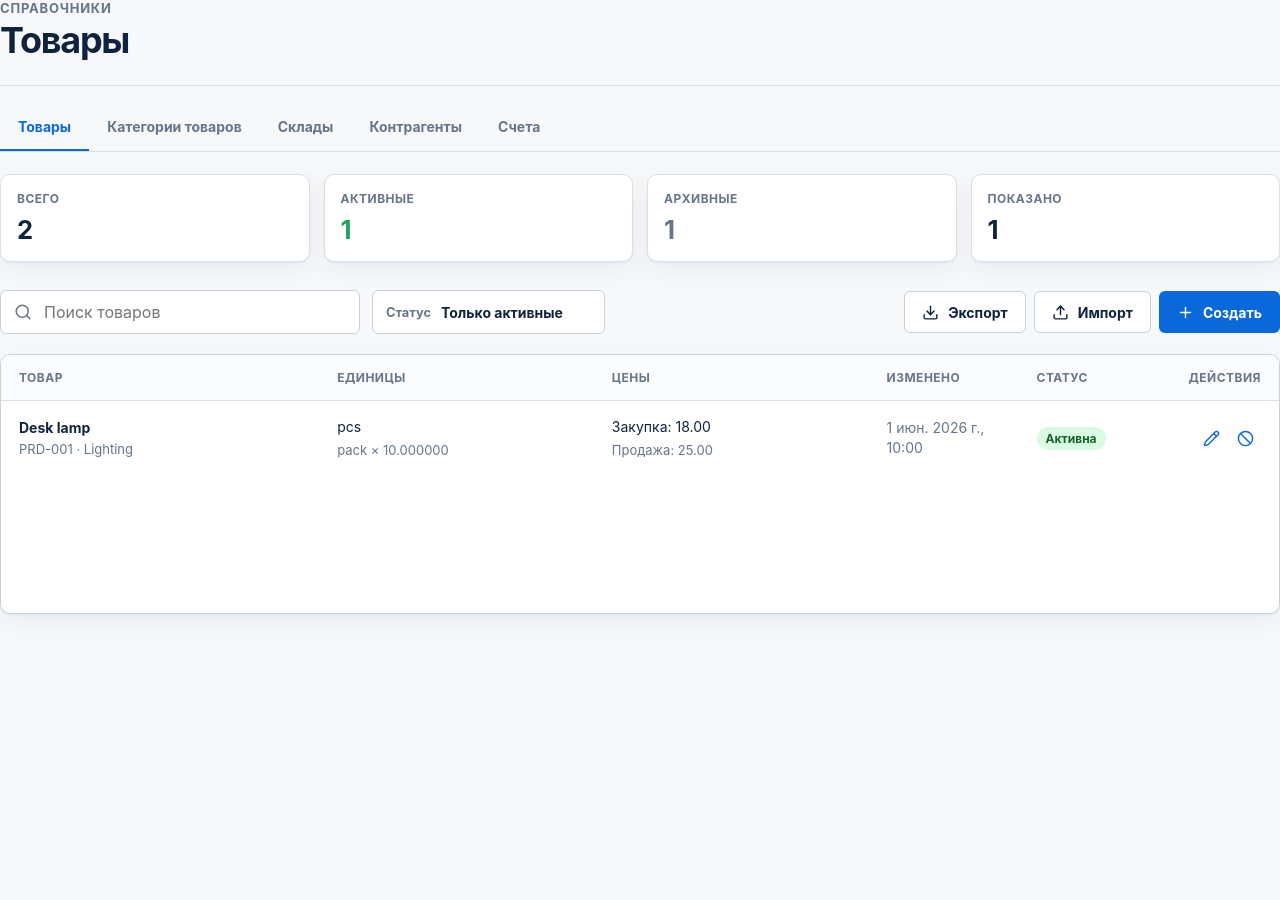
Test case: master data workspace › loads products and filters active and archived rows
This screenshot has width=1280, height=900.
Expected: the text "PRD-001 · Lighting" is shown, [19,441,133,457]
Expected: the text "PRD-ARCH" is not shown
Select "Только архивные" in the dropdown named "Фильтр активности" at coordinates (516, 312), box [441,304,591,321]
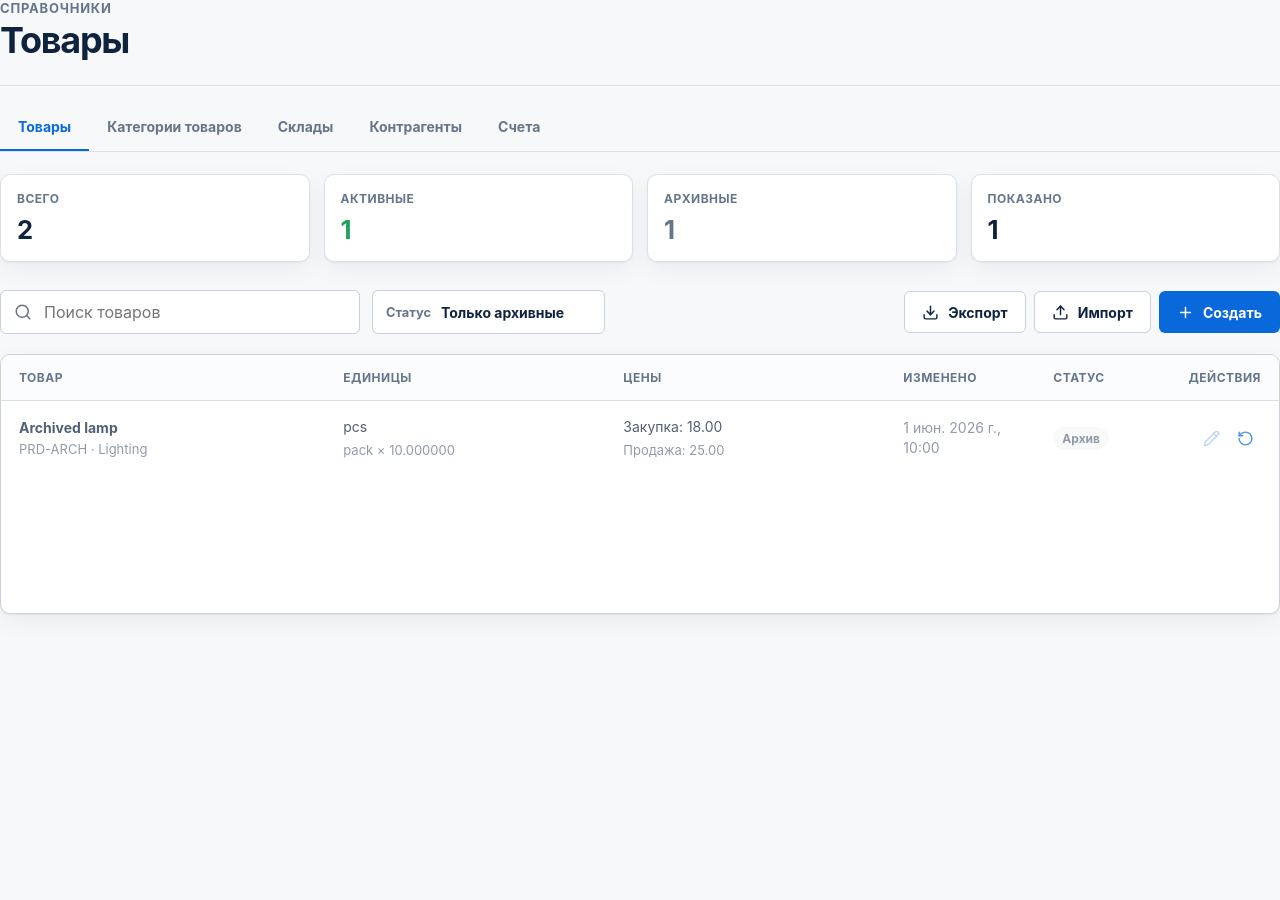
Expected: the text "PRD-ARCH · Lighting" is shown, [19,441,147,457]
Expected: the text "PRD-001" is gone
Click the button named "Восстановить Archived lamp" at coordinates (1245, 438), box [1229,422,1261,454]
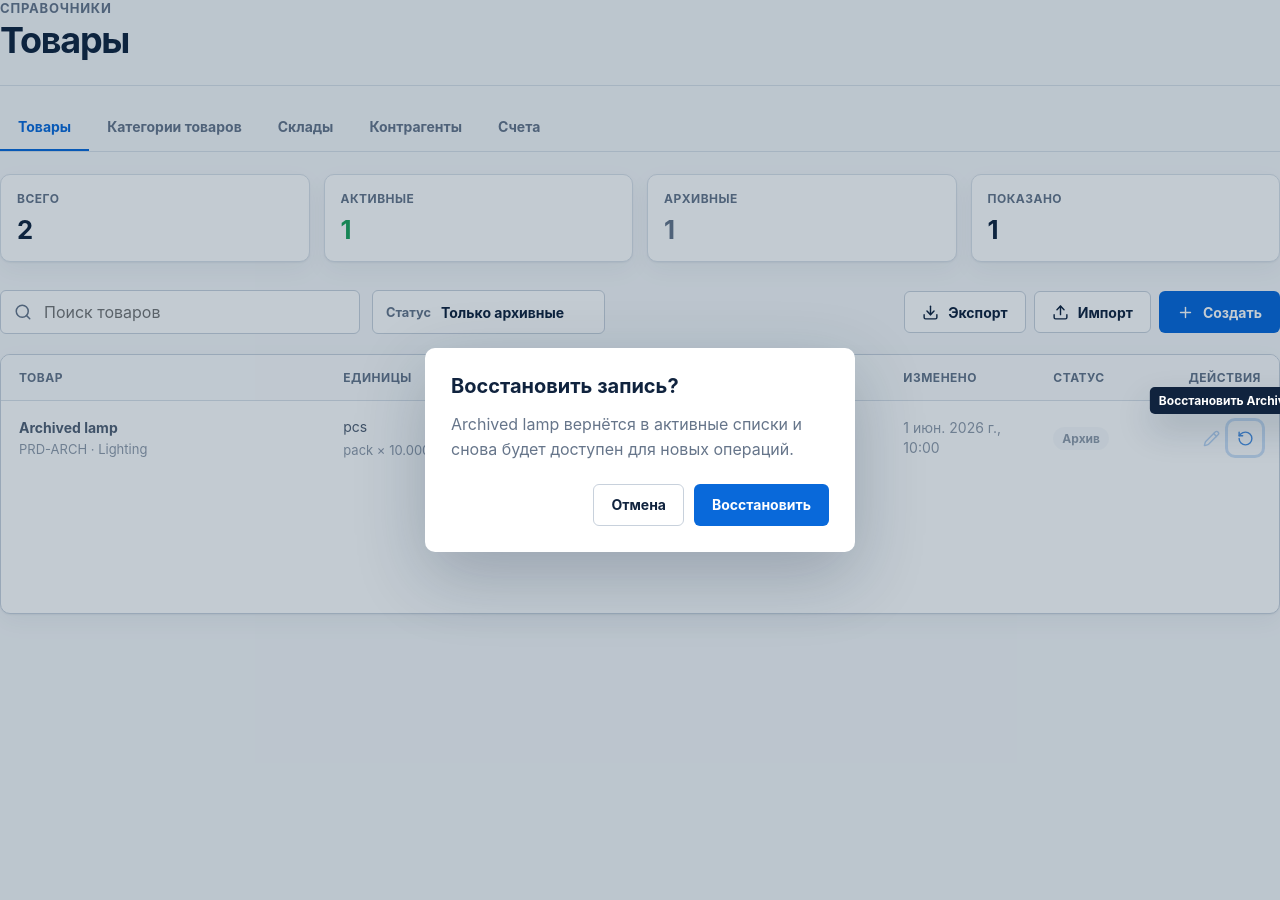
Click the button "Восстановить" at coordinates (762, 505), box [694,484,829,526]
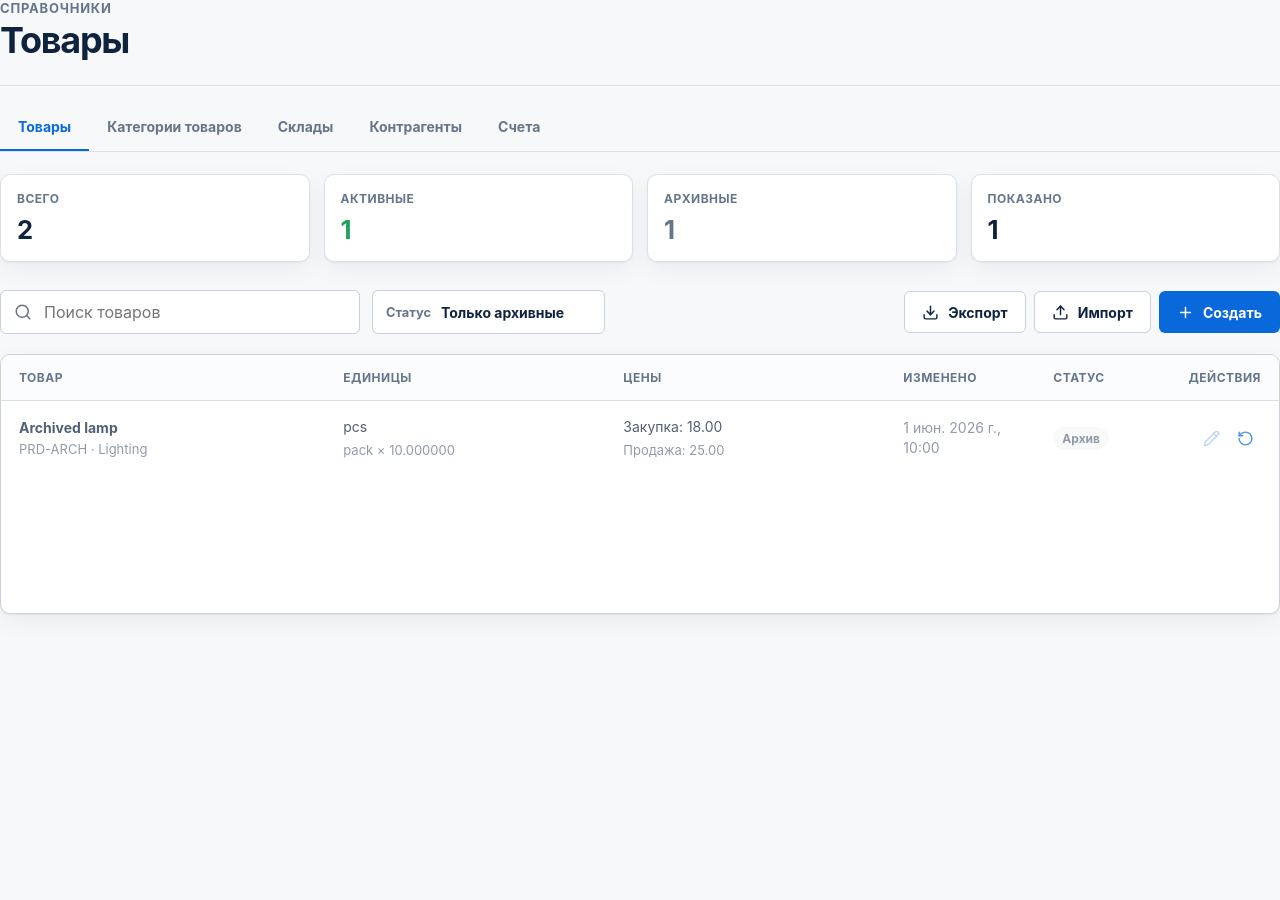
Type "missing" into the search field with placeholder "Поиск товаров" at coordinates (194, 312), box [42,301,346,323]
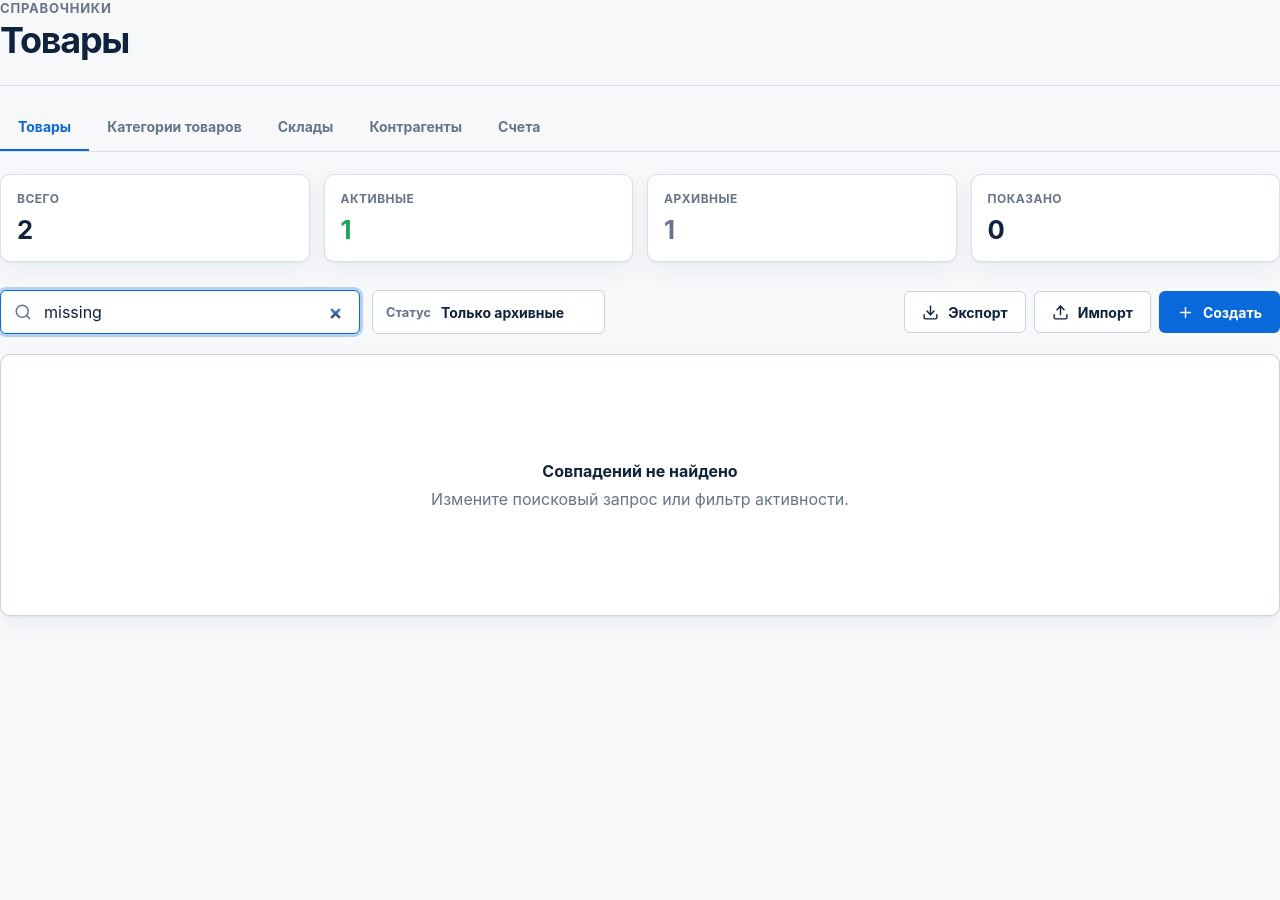
Expected: the text "Совпадений не найдено" is shown, [542,461,738,481]
Expected: the text "Измените поисковый запрос или фильтр активности." is shown, [431,489,849,509]
